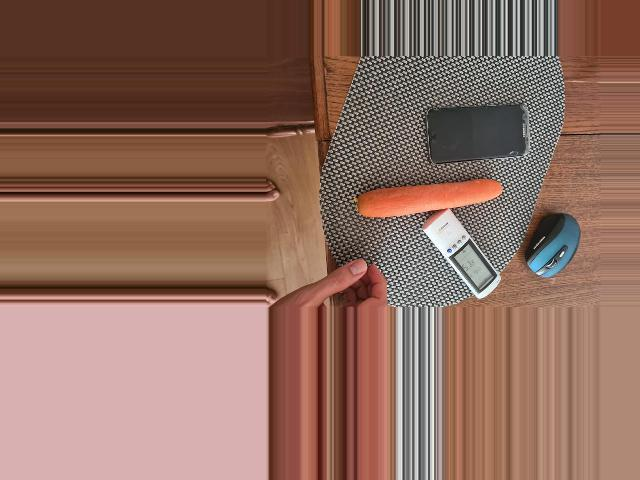carrot: (355, 176, 503, 219)
